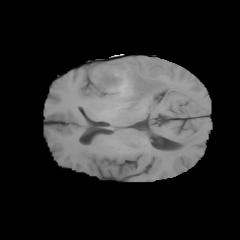glioma: (89, 65, 169, 110)
